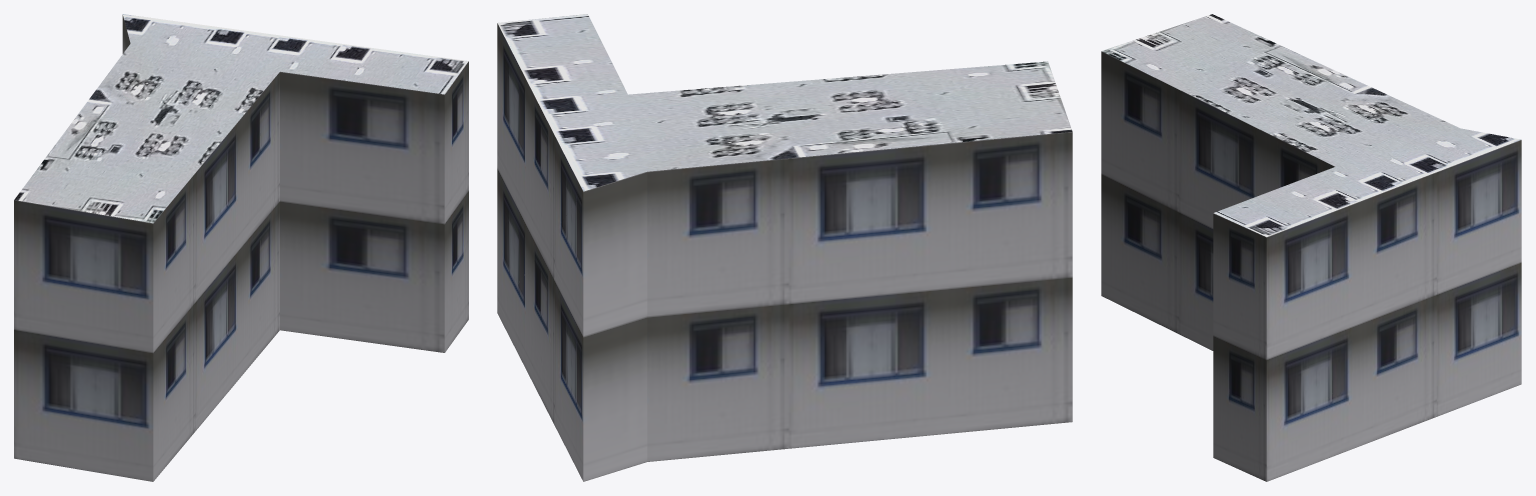
The model's file is ResTex__2814.fbx.
The picture shows the model from 3 angles, left to right: view 1: azimuth 30°, elevation 25°; view 2: azimuth 150°, elevation 25°; view 3: azimuth 270°, elevation 25°; orthographic projection. The views are drawn at different scales.
Parts seen in each view (by area): view 1: CityEngineMaterial_9_m, CityEngineMaterial_4_m; view 2: CityEngineMaterial_9_m, CityEngineMaterial_4_m; view 3: CityEngineMaterial_9_m, CityEngineMaterial_4_m.
Part boxes in pixels (x1,y1,x2,y2): CityEngineMaterial_9_m: (14,15,468,481); CityEngineMaterial_4_m: (14,14,468,223); CityEngineMaterial_9_m: (497,23,1072,481); CityEngineMaterial_4_m: (497,14,1072,191); CityEngineMaterial_9_m: (1101,51,1521,481); CityEngineMaterial_4_m: (1101,14,1520,237).
Bounding box in the file's own units: 11.74 × 6 × 9.35.
Materials: 2 (2 with a texture image).
